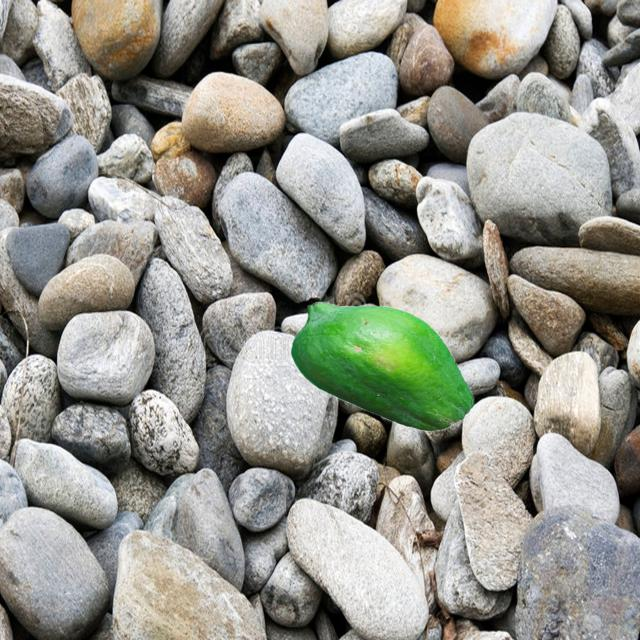Pepaya unrippen: (290, 298, 479, 431)
